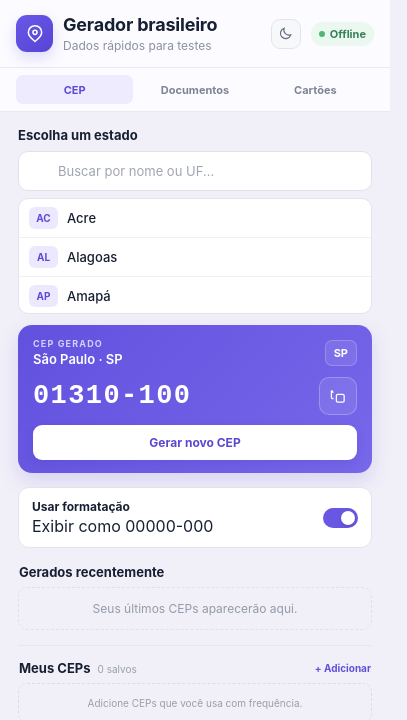
Test: App › mantém os 14 dígitos do CNPJ ao alternar a máscara
Step 1. Click the button "Documentos" → (195, 90), box [136,75,254,104]
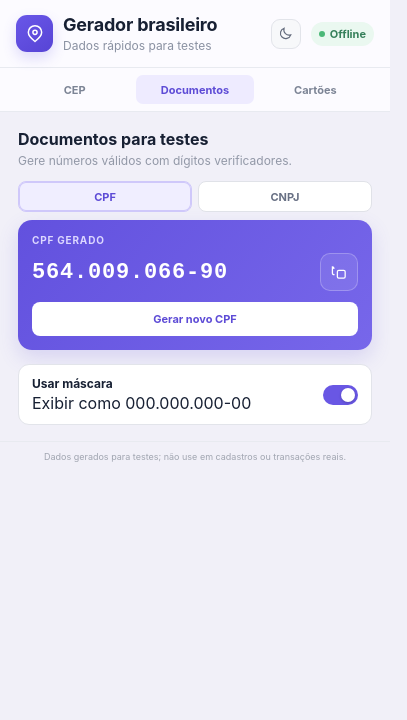
Step 2. Click the button "CNPJ" → (285, 196), box [198,181,372,212]
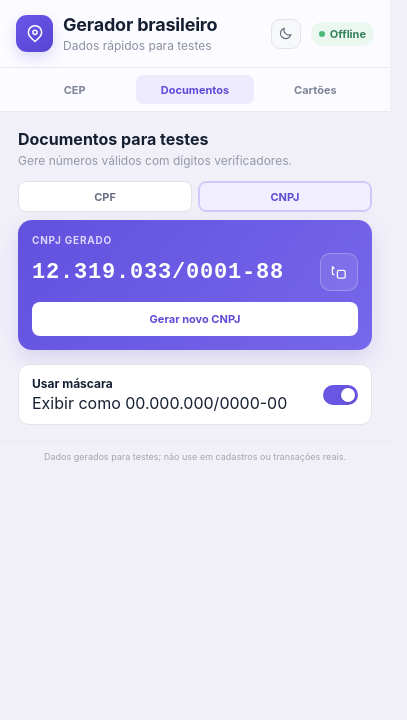
Step 3. Click the checkbox labelled "Usar máscara Exibir como 00.000.000/0000-00" → (160, 394), box [32,376,287,413]
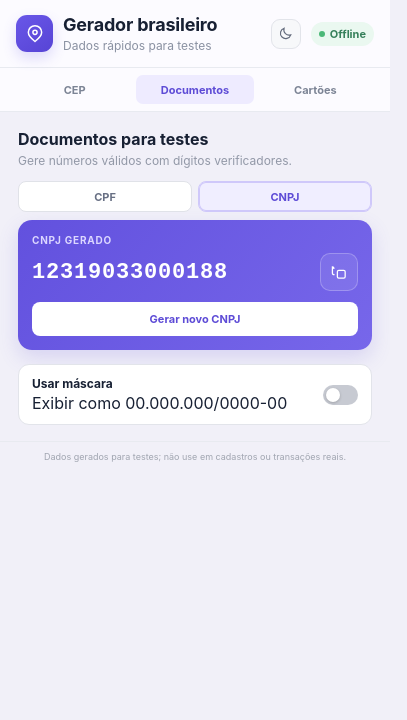
Expected: the text with class "document-value" reads "12319033000188", [32,260,228,284]
